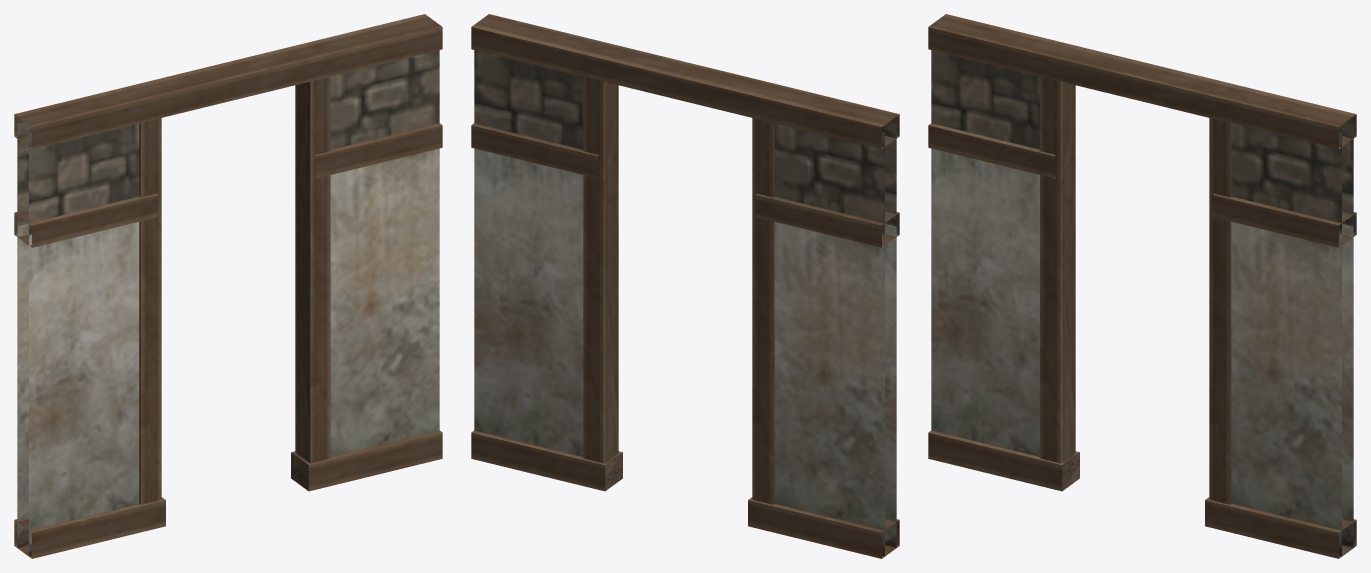
Rendered from Wall1_2.fbx.
The picture shows the model from 3 angles, left to right: view 1: azimuth 30°, elevation 25°; view 2: azimuth 150°, elevation 25°; view 3: azimuth 330°, elevation 25°; orthographic projection.
Visible parts, largest first — view 1: polySurface348; view 2: polySurface348; view 3: polySurface348.
Boxes of the visible parts, box(x1,y1,x2,y2) form: polySurface348: box(14, 14, 442, 558); polySurface348: box(471, 14, 899, 558); polySurface348: box(928, 14, 1356, 558).
Bounding box in the file's own units: 4 × 4.02 × 0.3.
Materials: 1 (1 with a texture image).
